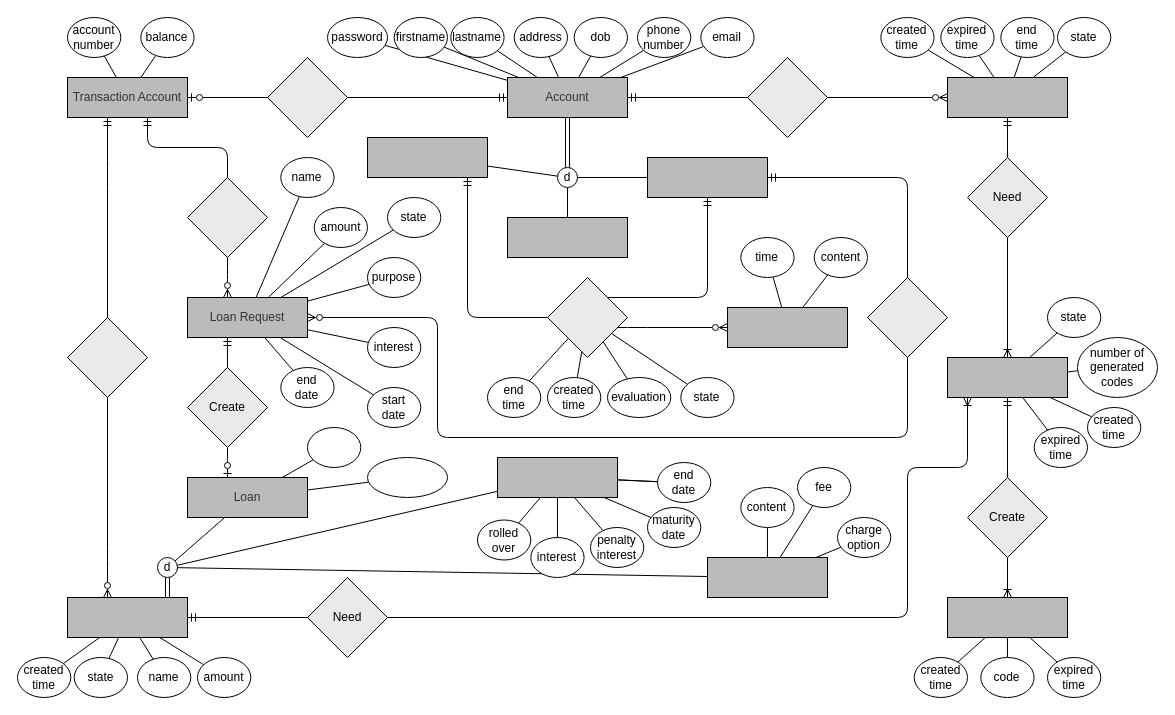
Some shapes in this 1175 by 715 pixel diagram are drawn without their labels. The box of each missing label's shape, as (x1, y1, x2, y2) in pixels:
Activity: (946, 76, 1068, 118)
Contact: (546, 276, 628, 358)
Customer: (366, 136, 488, 178)
disbursement: (366, 456, 448, 498)
Employee: (646, 156, 768, 198)
Make: (66, 316, 148, 398)
Message: (726, 306, 848, 348)
number of: (306, 426, 361, 468)
Own: (266, 56, 348, 138)
Owner: (506, 216, 628, 258)
Request: (186, 176, 268, 258)
Response: (866, 276, 948, 358)
Sign In: (746, 56, 828, 138)
TimeDeposit: (496, 456, 618, 498)
Transaction: (66, 596, 188, 638)
Transfer: (706, 556, 828, 598)
Verification: (946, 356, 1068, 398)
Verification Code: (946, 596, 1068, 638)
